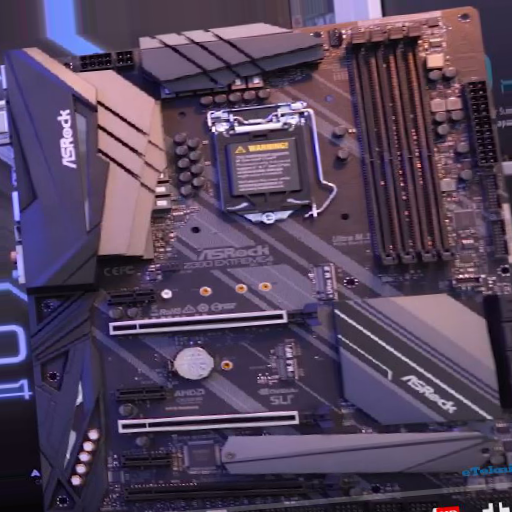CPU: (208, 116, 316, 226)
GPU: (118, 403, 336, 437), (105, 303, 323, 334)
MOTHERBOARD: (10, 7, 512, 498)
RAM: (345, 25, 456, 268)
SSD: (268, 335, 305, 382), (309, 259, 337, 302)
